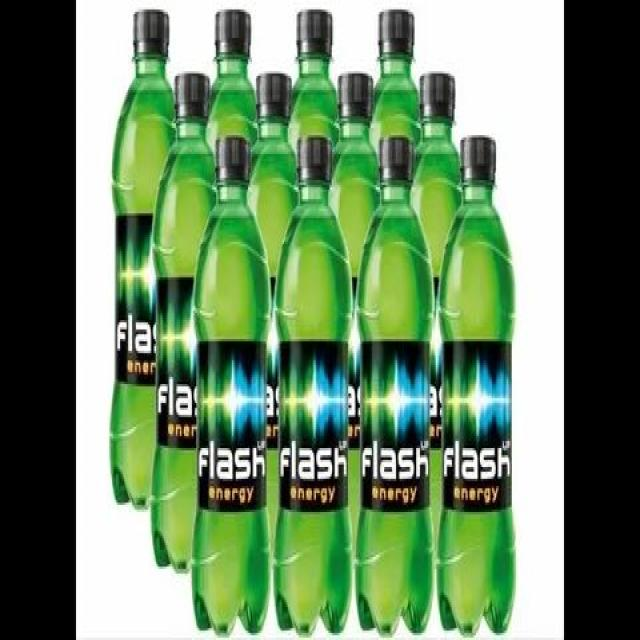green: (275, 184, 353, 636), (438, 182, 516, 634), (357, 182, 434, 637), (192, 177, 268, 635)
